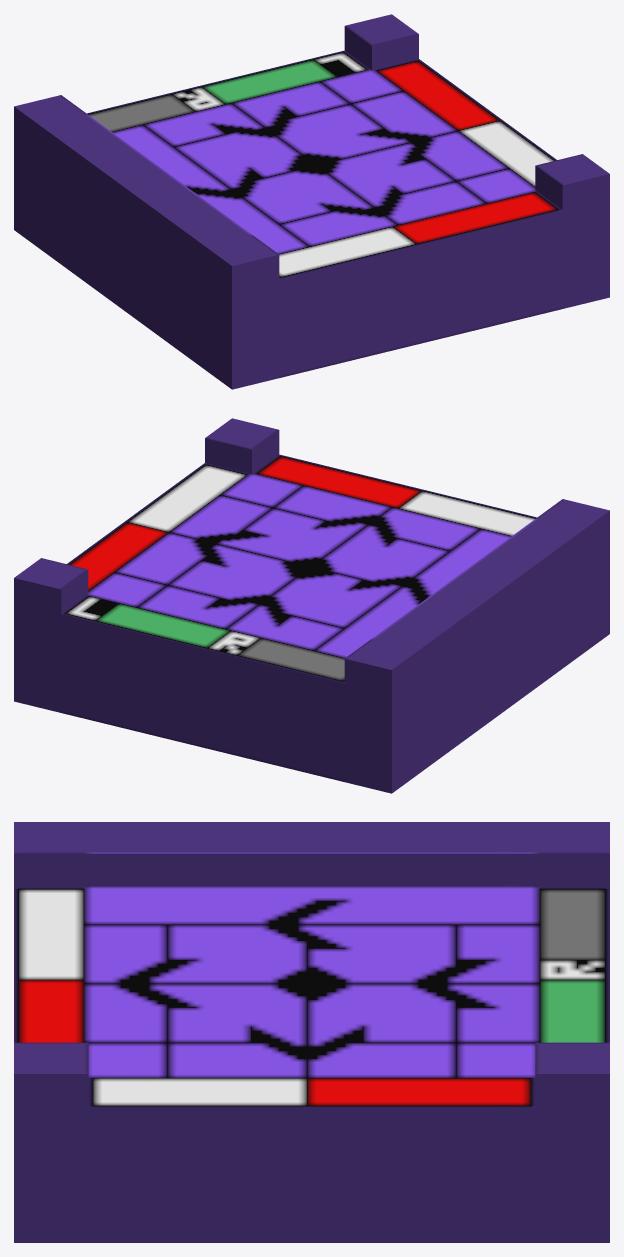
The model's file is left_front.obj.
The picture shows the model from 3 angles, top to bottom: view 1: azimuth 30°, elevation 25°; view 2: azimuth 150°, elevation 25°; view 3: azimuth 270°, elevation 25°; orthographic projection. The views are drawn at different scales.
Parts seen in each view (by area): view 1: LeftFront; view 2: LeftFront; view 3: LeftFront.
Boxes of the visible parts, bbox=[...] form: LeftFront: bbox=[14, 14, 609, 389]; LeftFront: bbox=[14, 418, 609, 793]; LeftFront: bbox=[14, 822, 609, 1242].
Bounding box in the file's own units: 4 × 1.25 × 4.
1 material, 1 textured.
